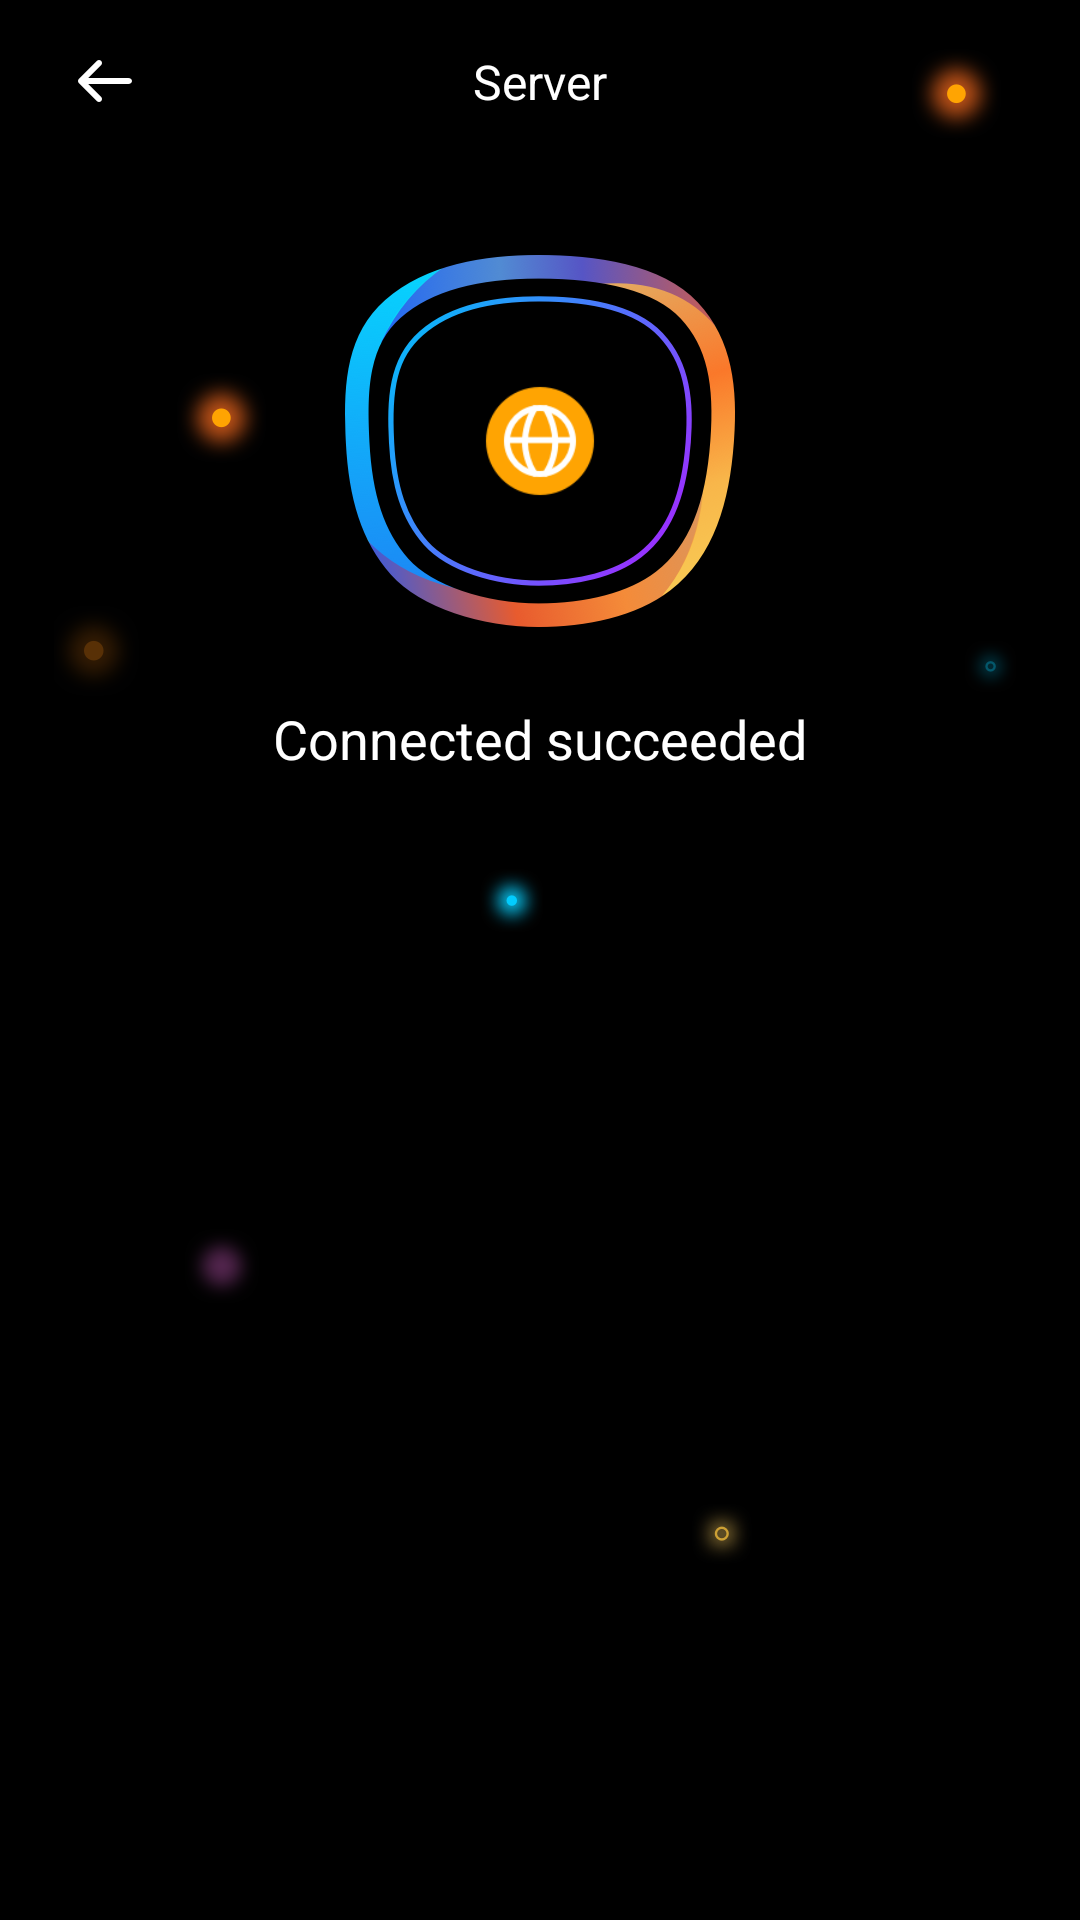

Where icons sit on this 1080 x 1920 app screen, as (x1, y1, x2, y2):
back: (78, 60, 132, 102)
